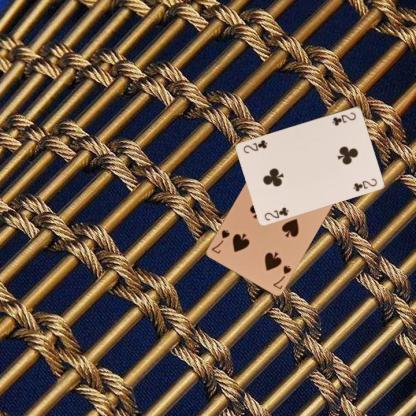2c: (330, 109, 357, 127), (262, 204, 290, 221)
7s: (270, 262, 292, 291)
